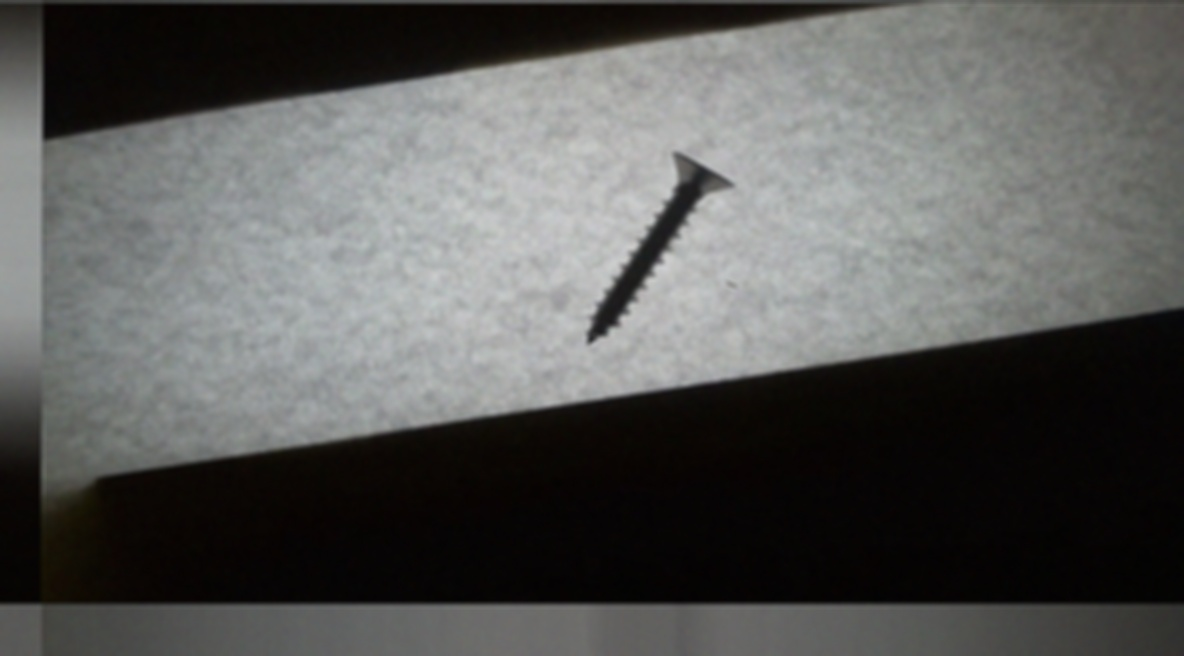S001: (553, 133, 752, 358)
